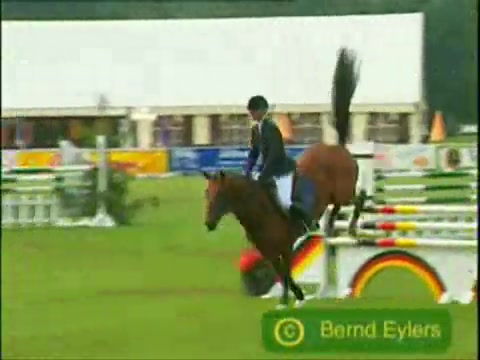horse: (203, 47, 366, 313)
